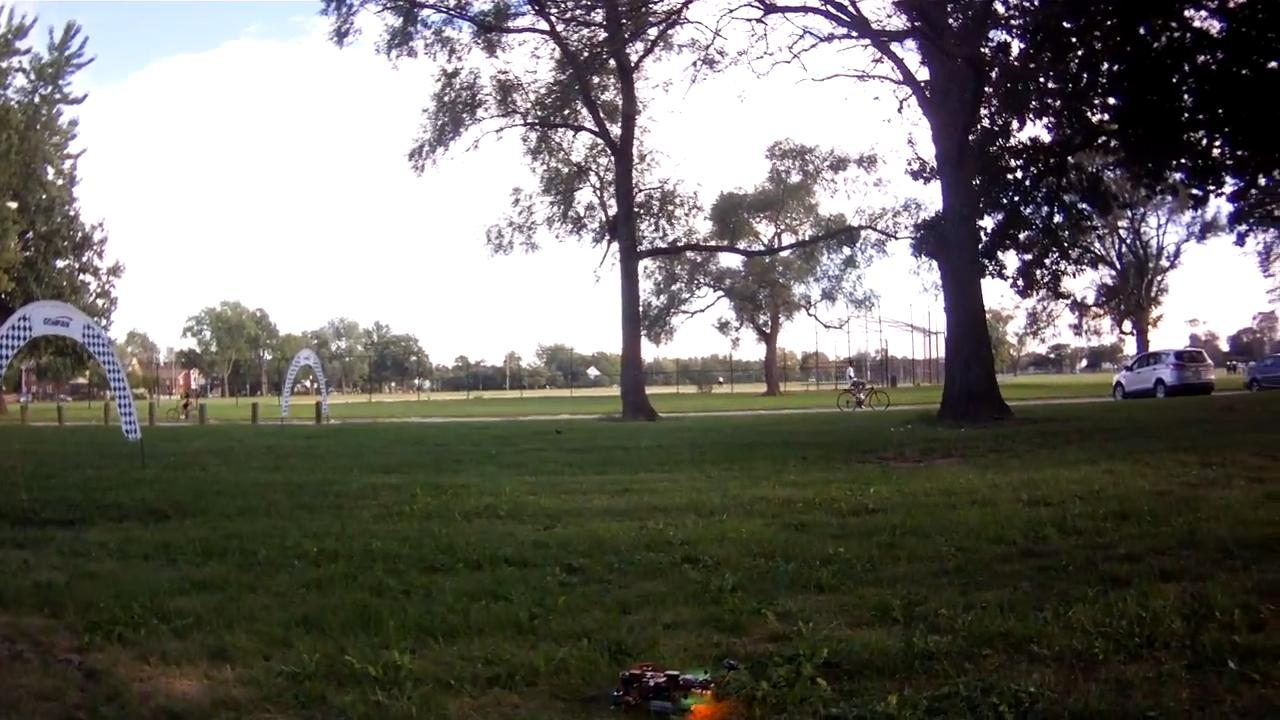gate: (1, 299, 140, 450)
